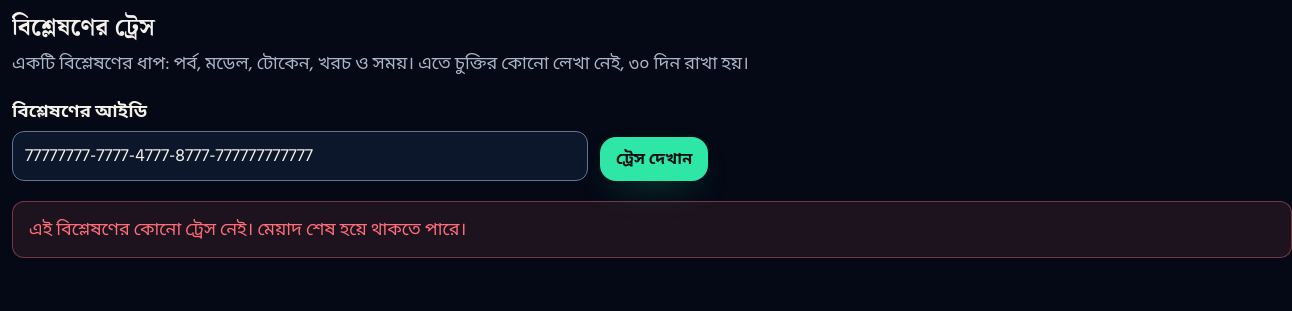
Test case: trace viewer (FR-73) › FR-73 a missing trace is explained and an invalid ID is refused before any request
Expected: the text "এই বিশ্লেষণের কোনো ট্রেস নেই। মেয়াদ শেষ হয়ে থাকতে পারে।" is shown, [12,200,1291,258]
Replace the text in the field labelled "বিশ্লেষণের আইডি" with "not-an-id": (300,156) [12,131,588,180]
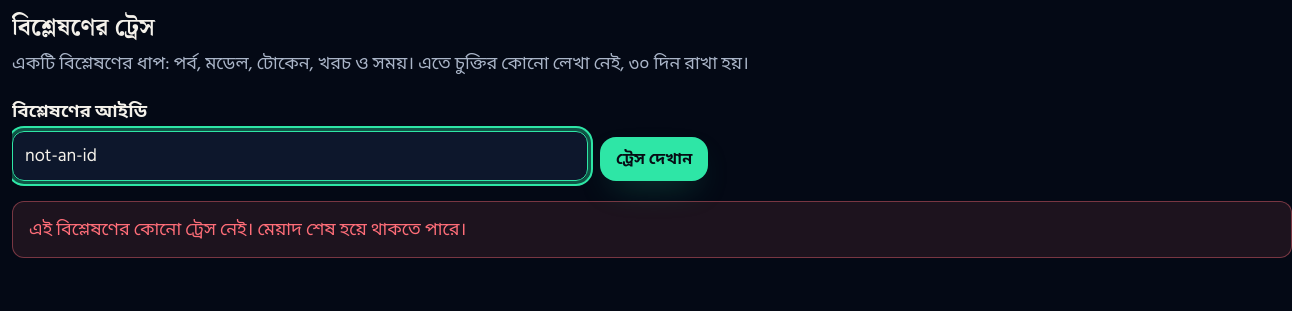
Click the button "ট্রেস দেখান": (654,158) [600,136,708,180]
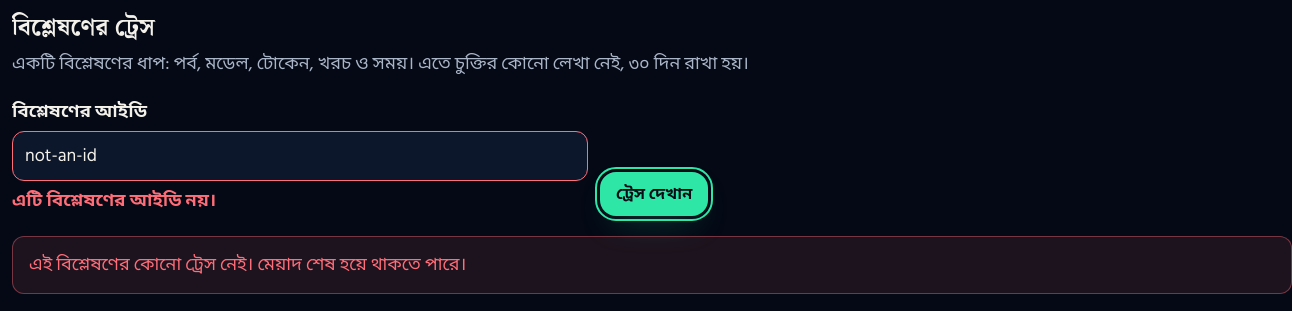
Expected: the text "এটি বিশ্লেষণের আইডি নয়।" is shown, [12,186,216,214]
